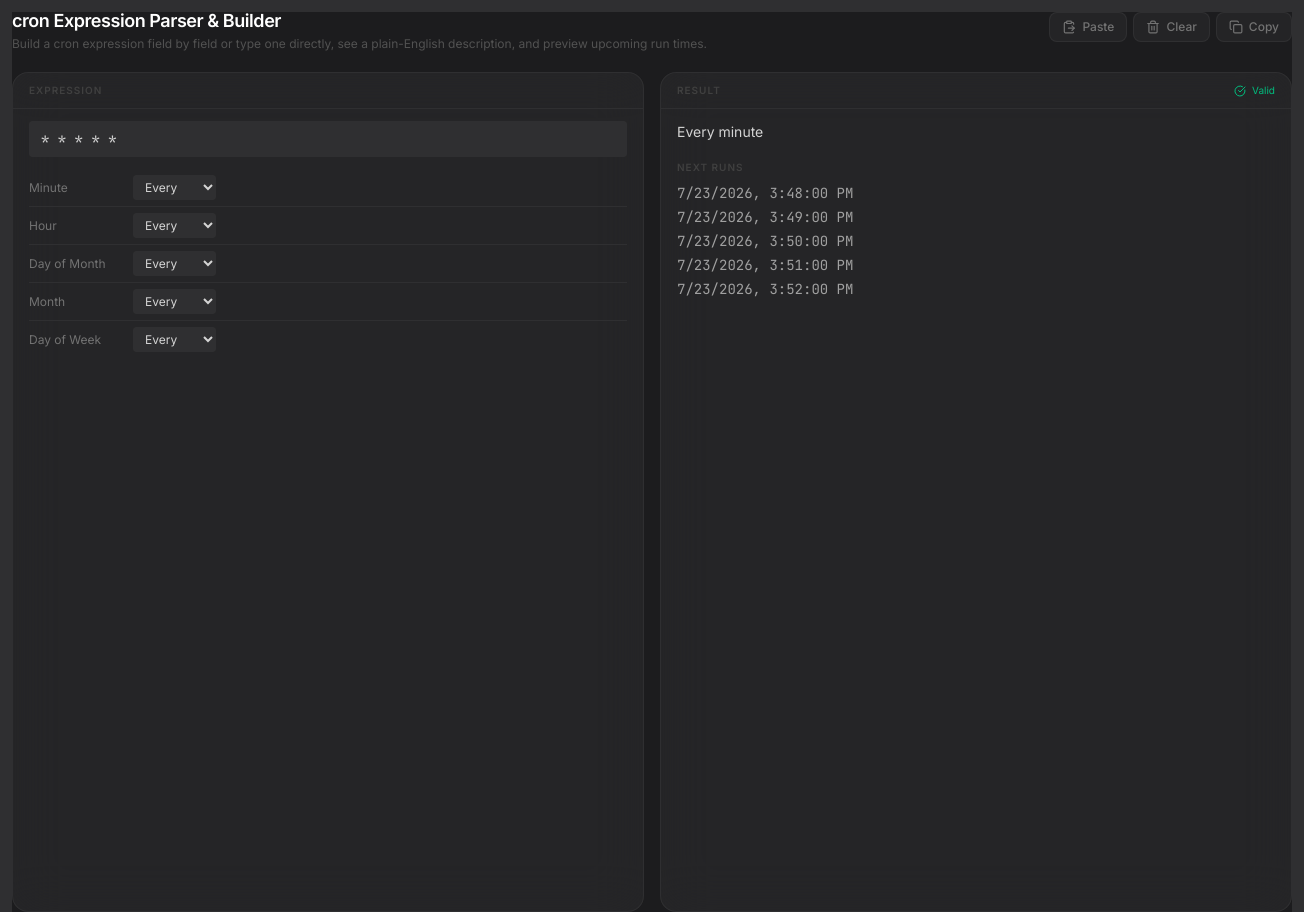
Test: CronBuilderTool › clears the expression back to the default when Clear is clicked
This screenshot has width=1304, height=912.
Replace the text in the field with placeholder "*/15 9-17 * * 1-5" with "30 9 * * *" at (328, 139), box [29,121,627,157]
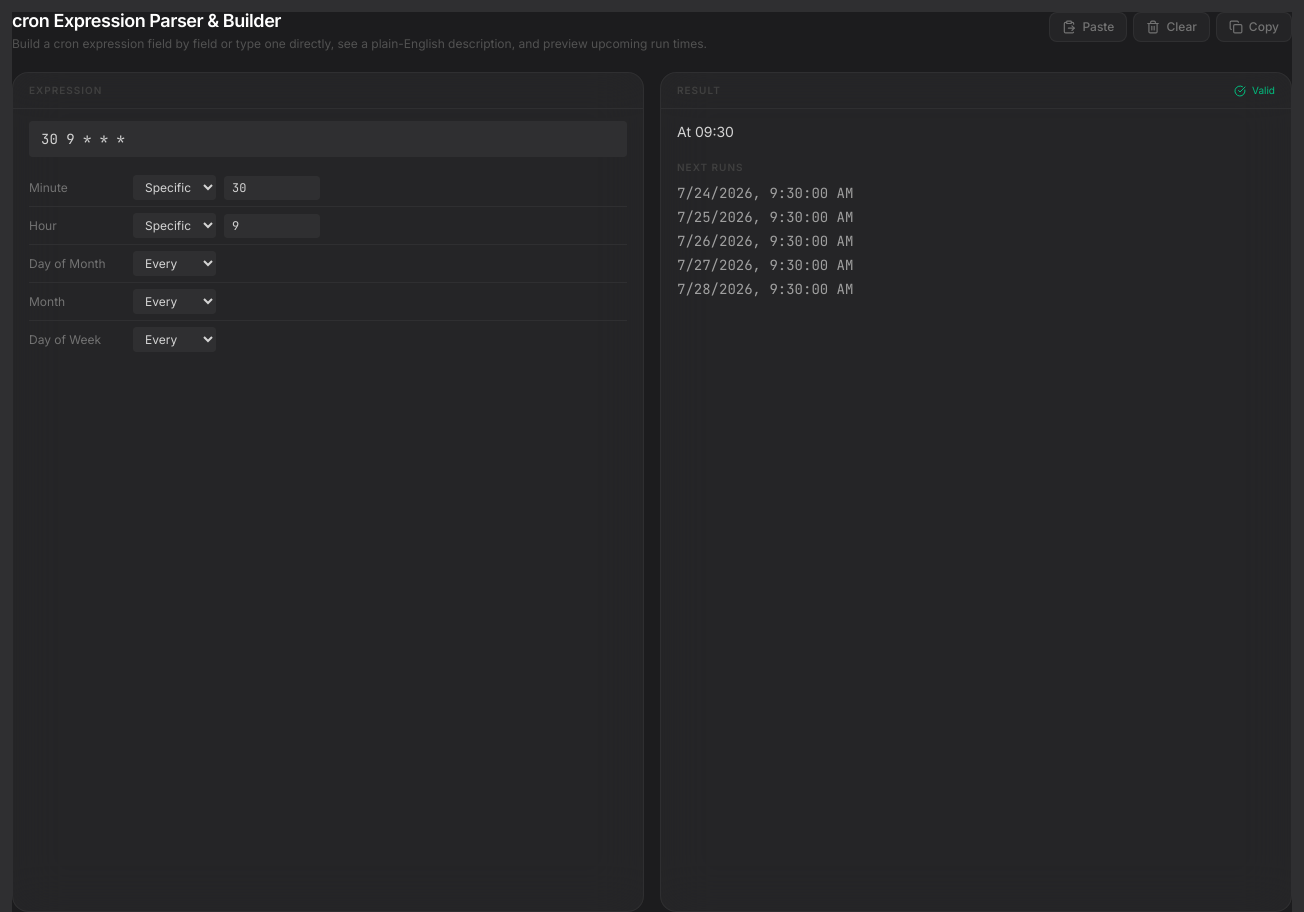
Click the button titled "Clear all".
click(1172, 27)  # box [1133,12,1210,42]
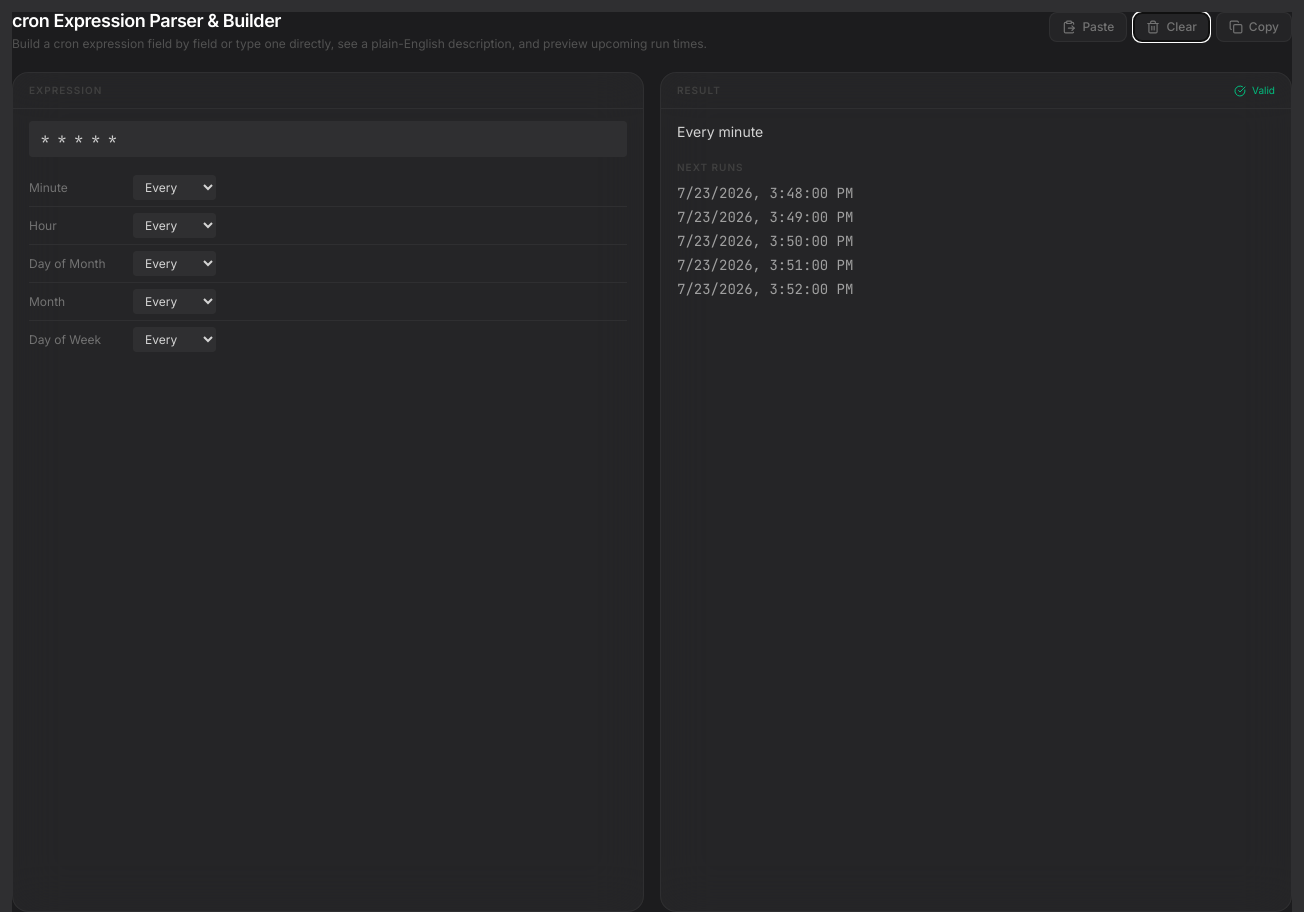
Check: the field with placeholder "*/15 9-17 * * 1-5" holds "* * * * *", box [29,121,627,157]
